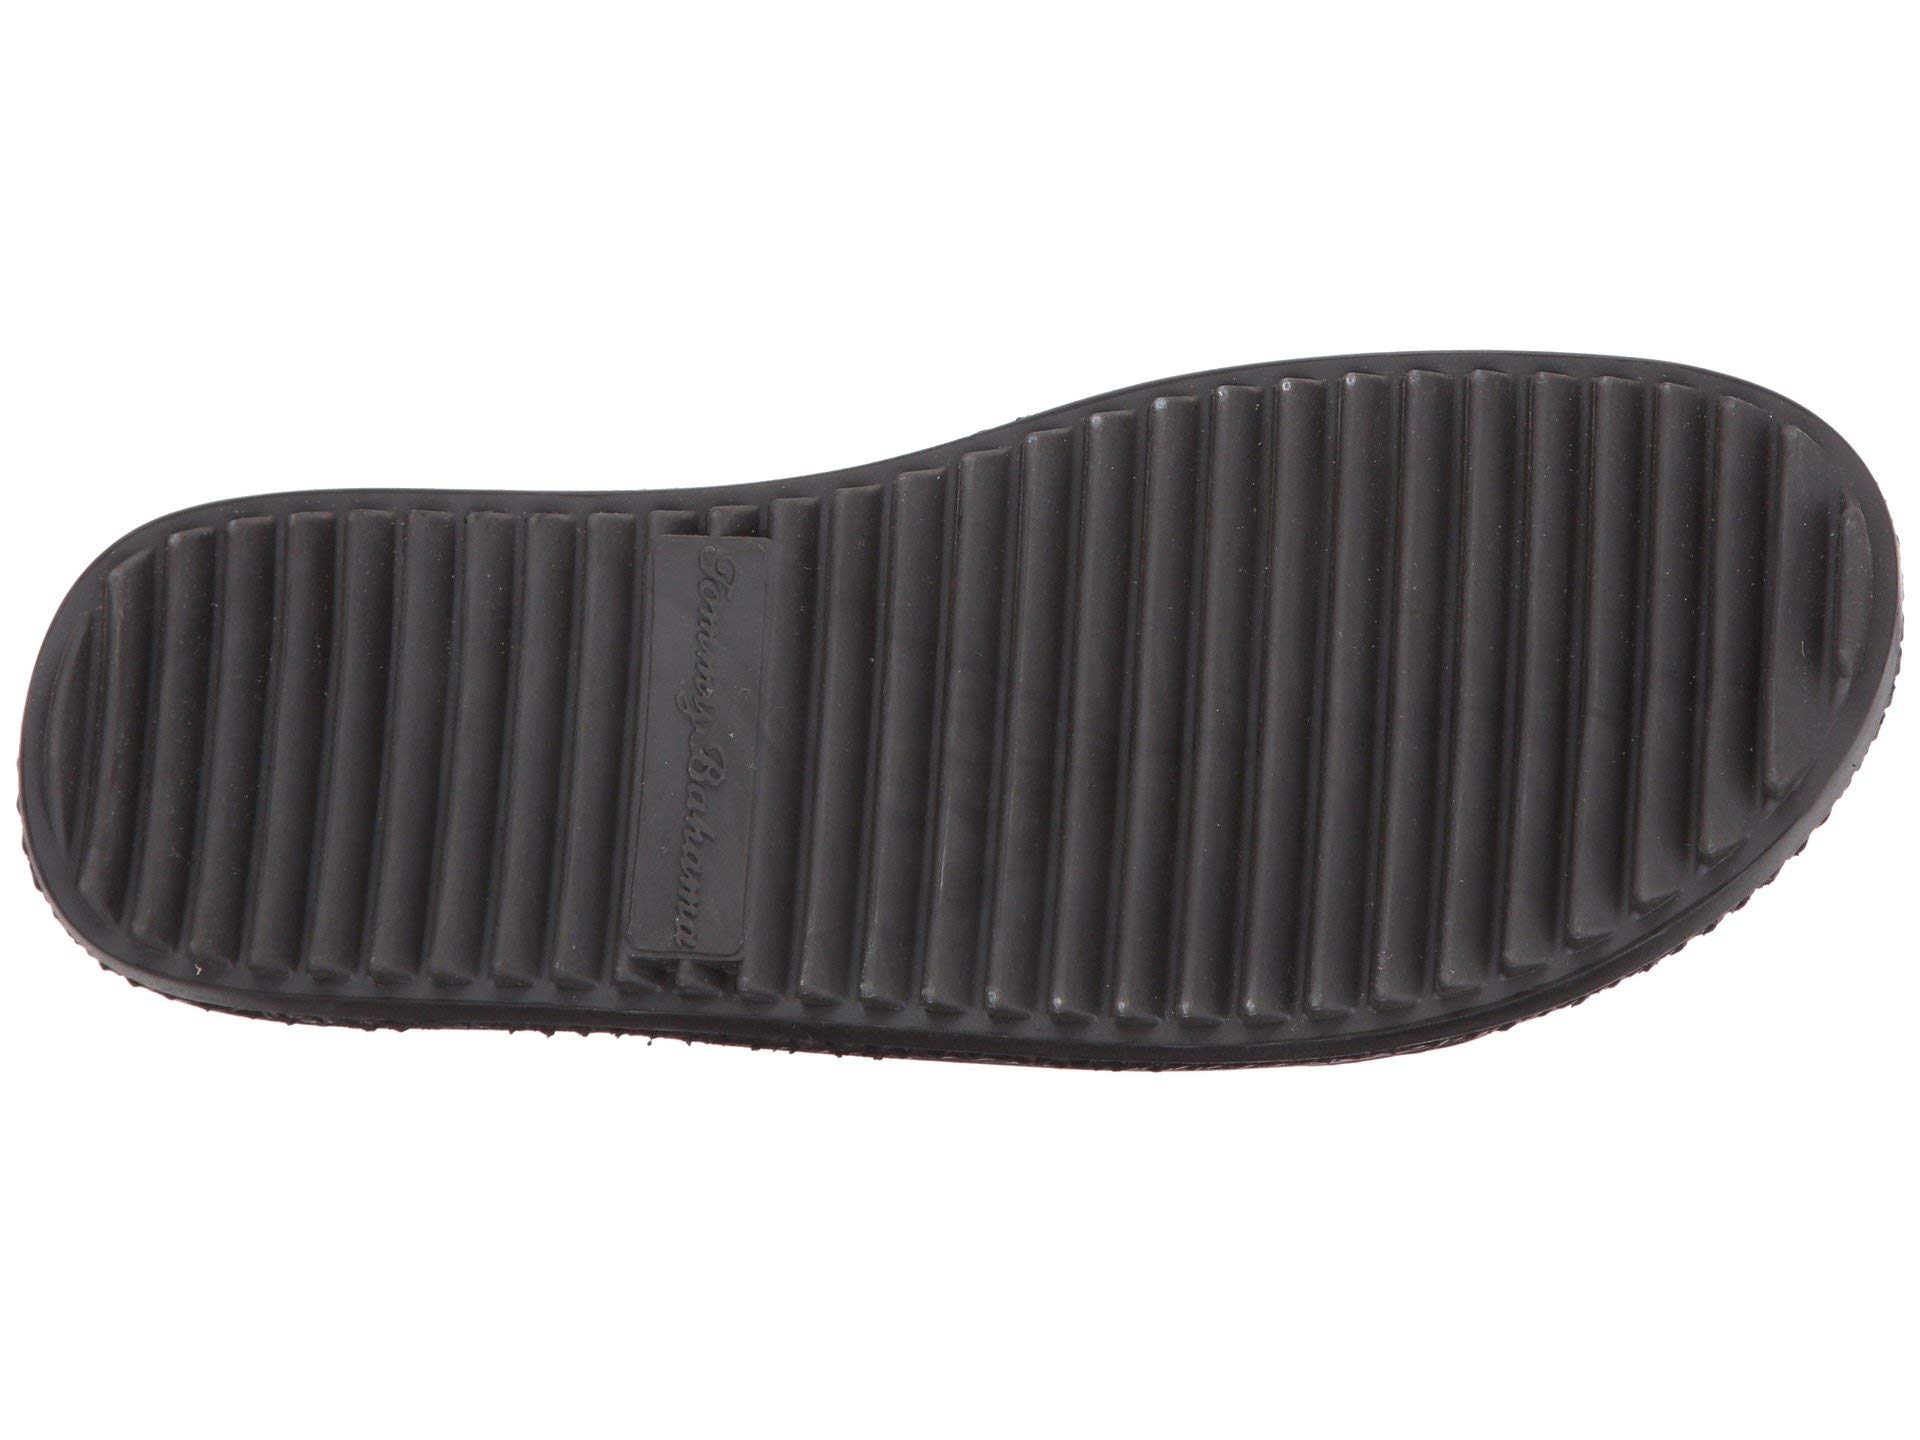line: (472, 511, 968, 994)
quad: (472, 511, 968, 994)
text: (472, 511, 968, 994)
